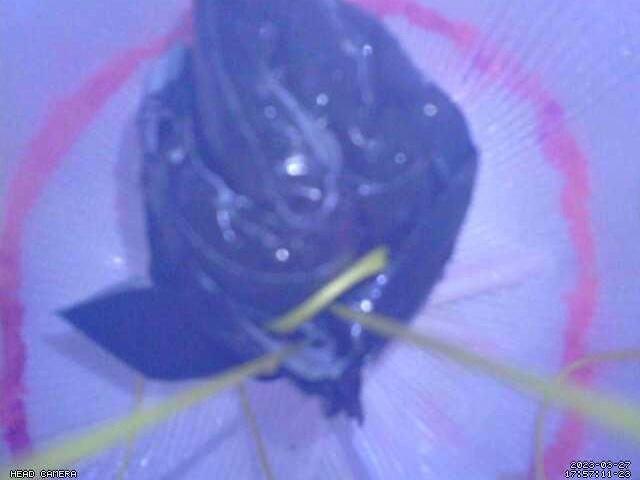head: (0, 0, 600, 480)
